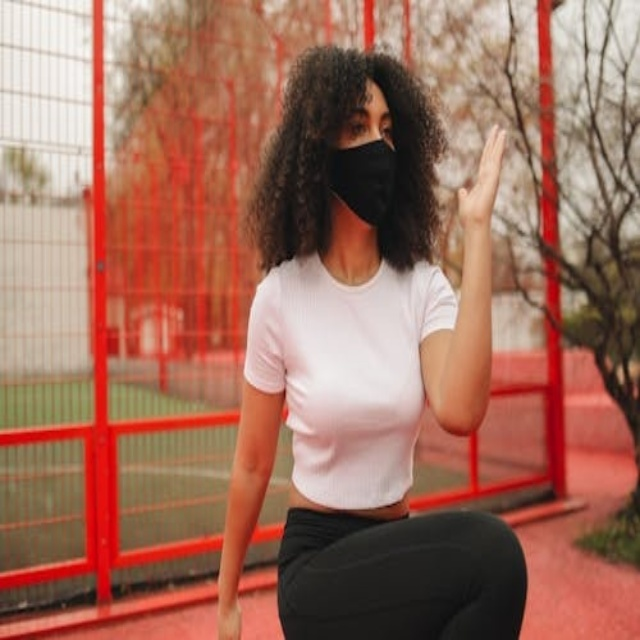Mascara: (325, 138, 397, 228)
Sin_gafas: (344, 102, 398, 142)
Sin_guantes: (444, 110, 517, 234)
